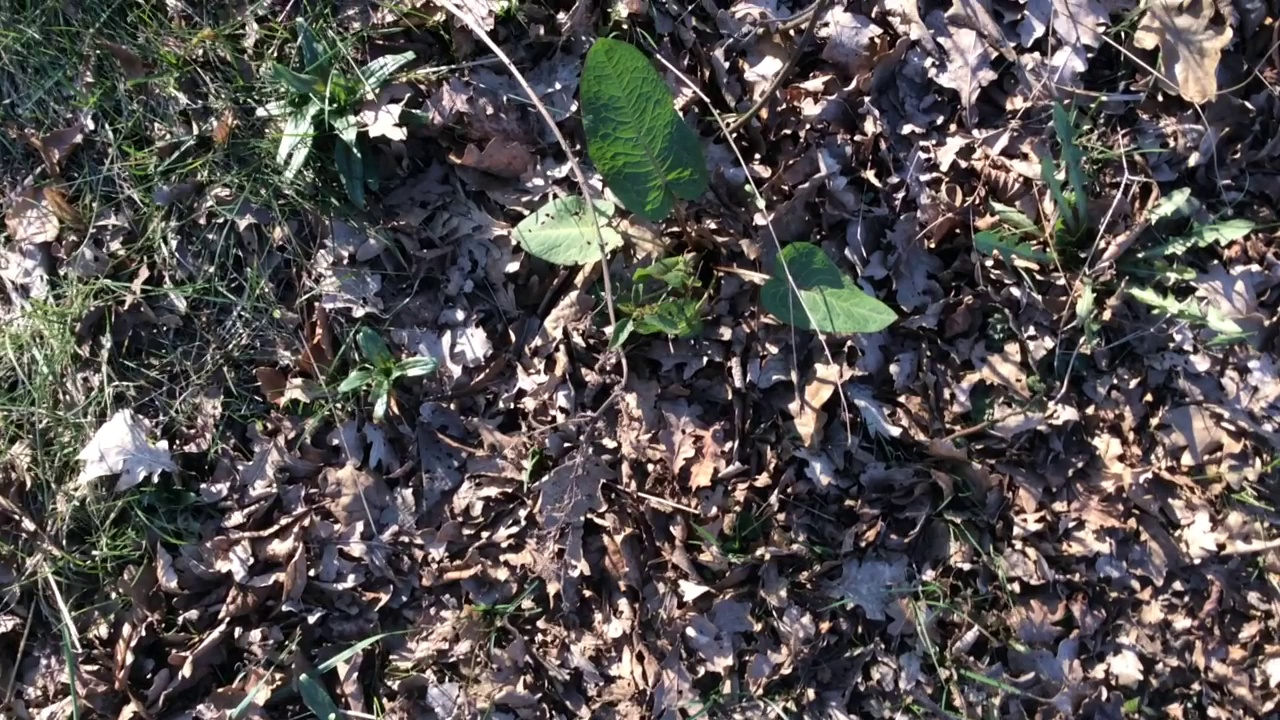rumex: (507, 37, 899, 344)
